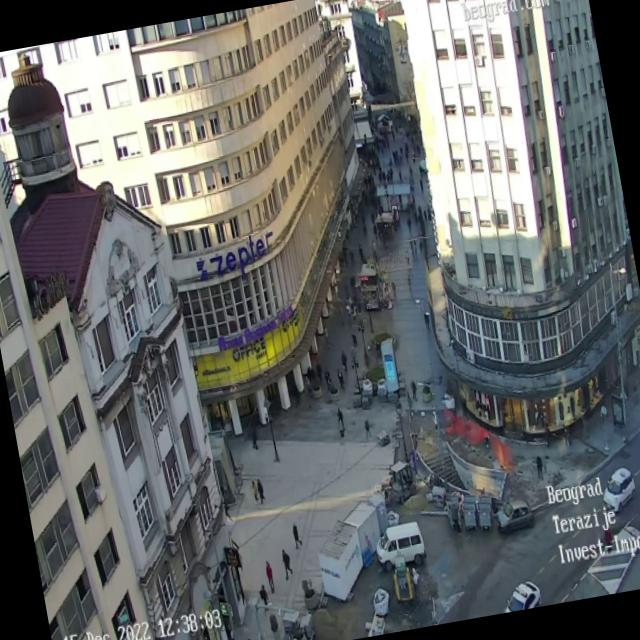car: (372, 517, 428, 564), (597, 464, 639, 516), (500, 578, 542, 612)
